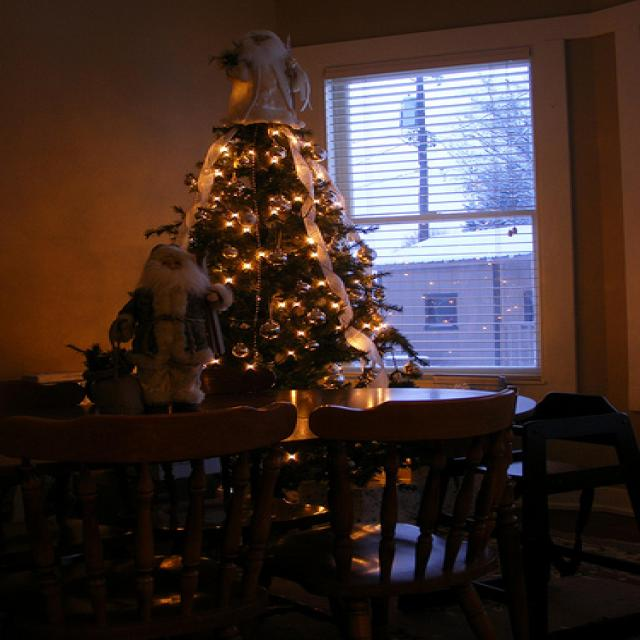Table: (94, 350, 577, 590)
chair: (303, 397, 572, 615), (89, 392, 334, 615), (529, 380, 640, 562)
